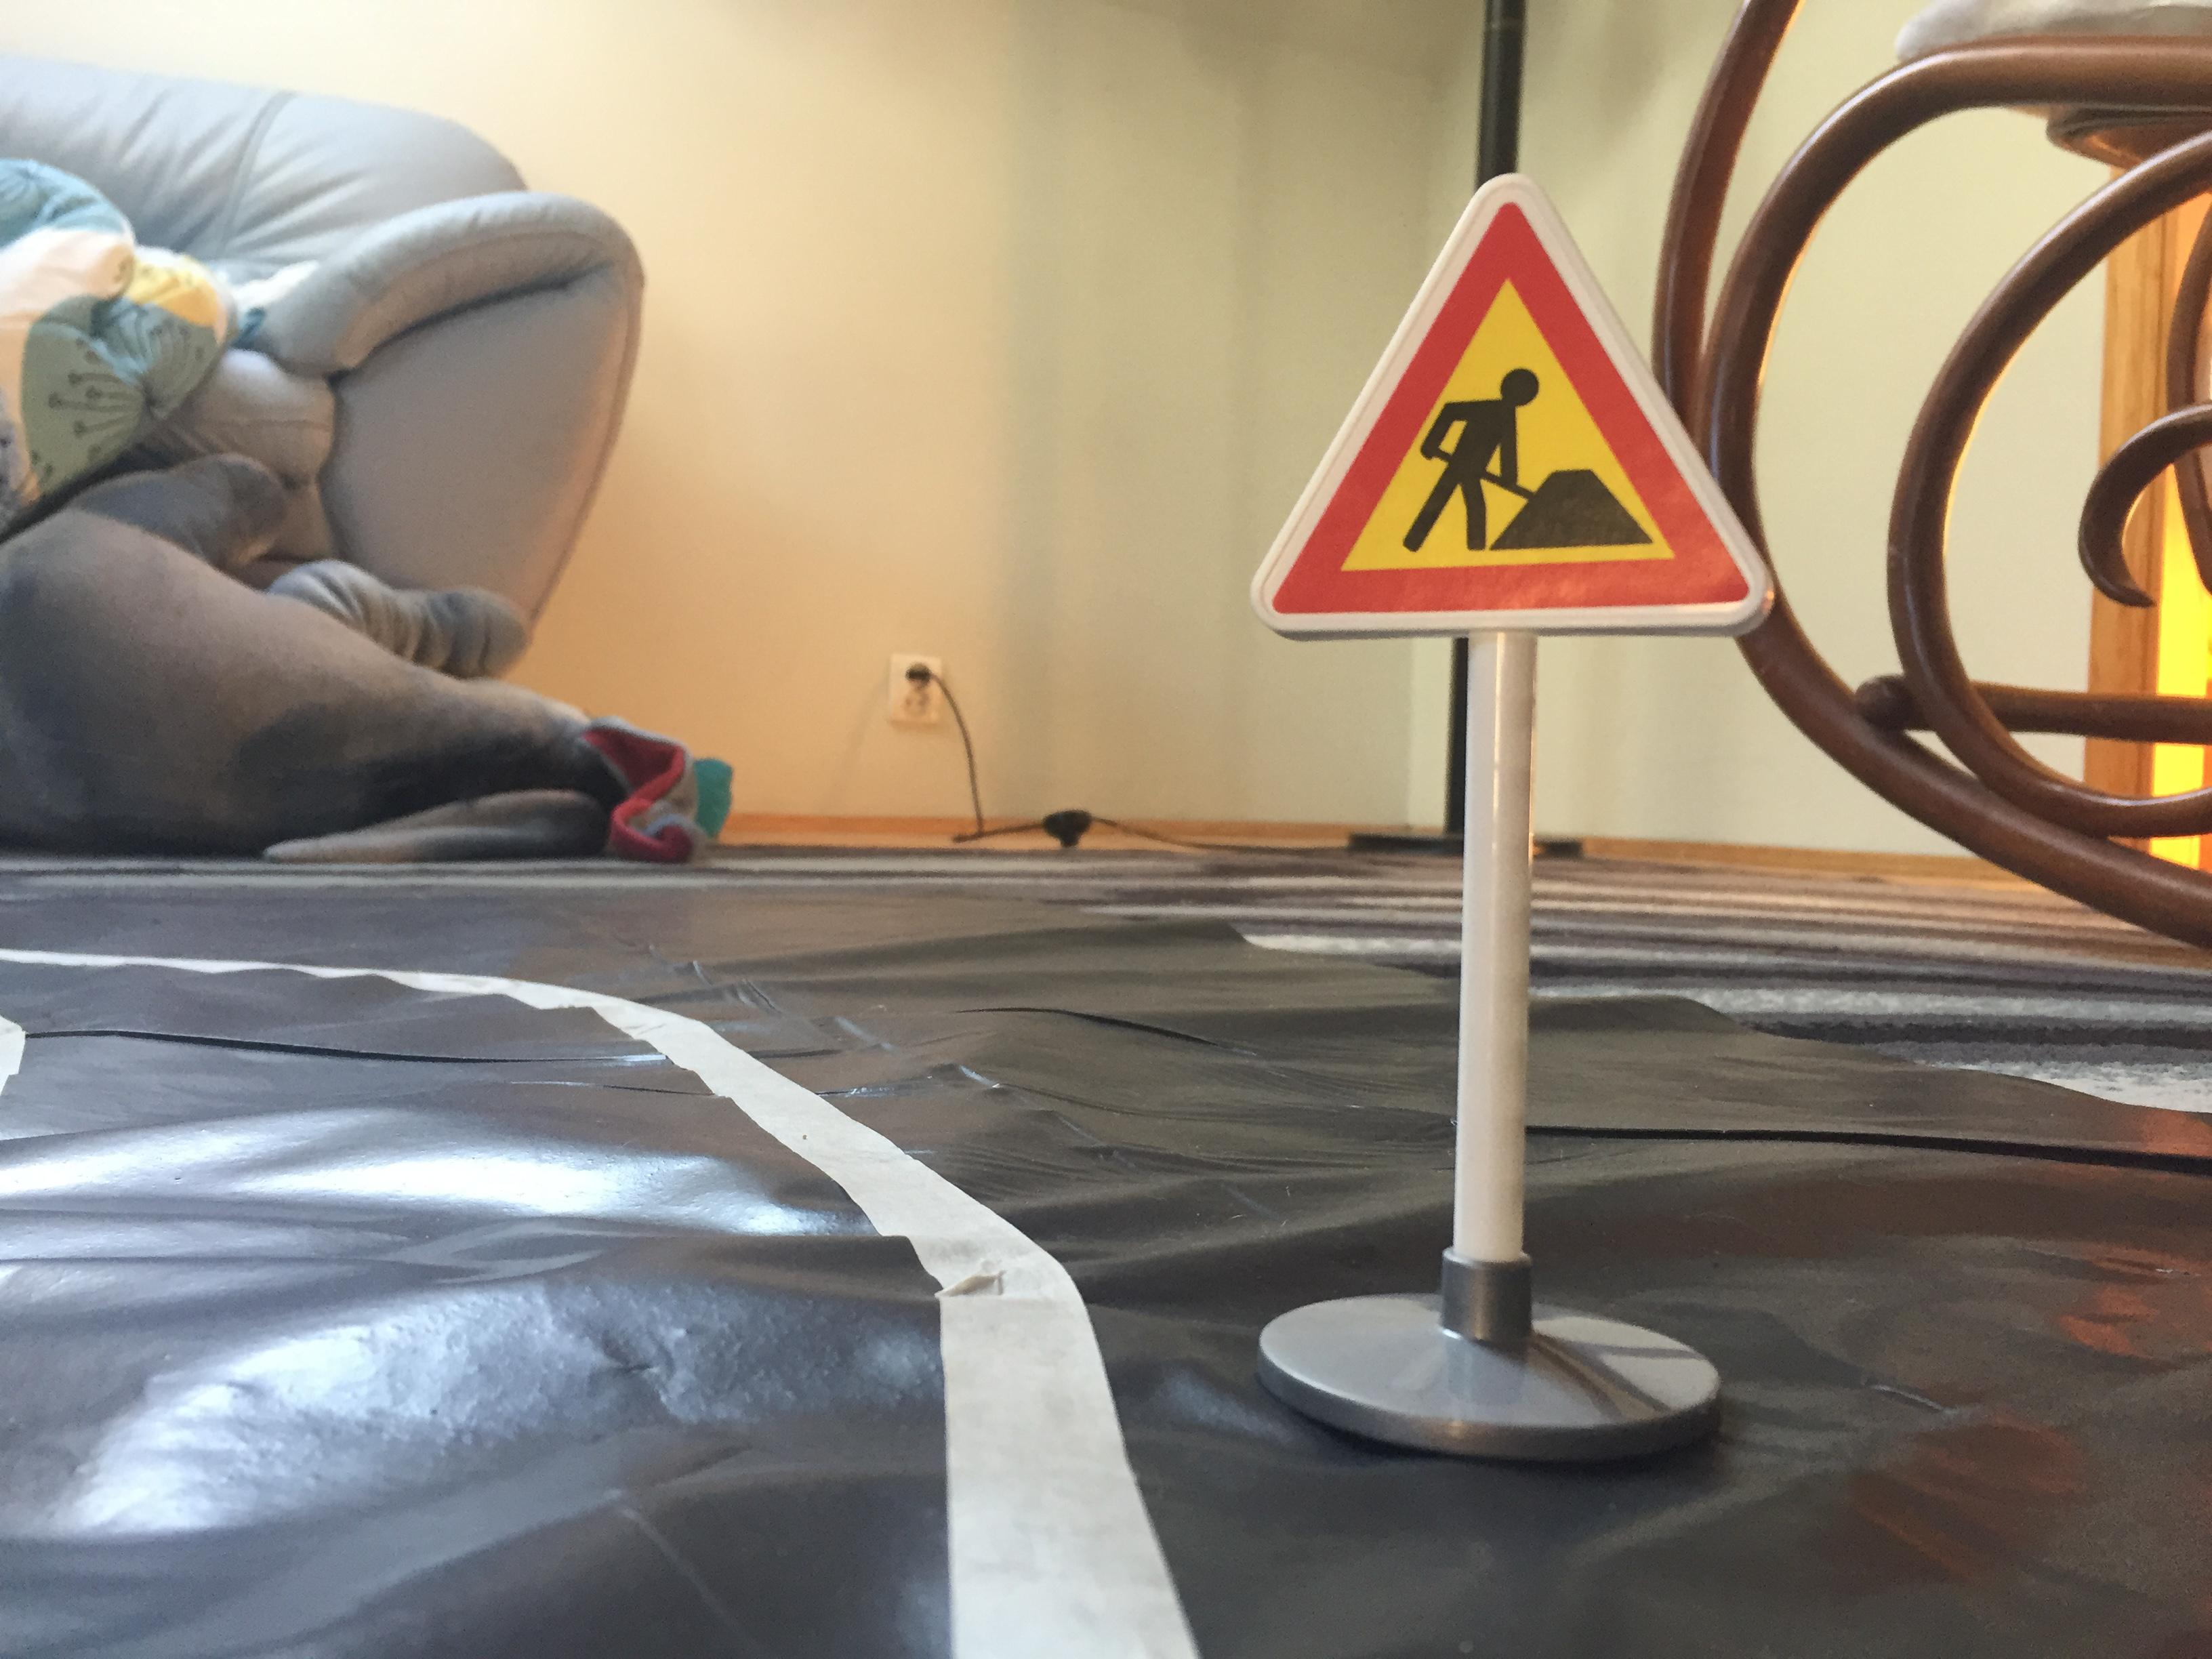work: (1244, 164, 1784, 655)
